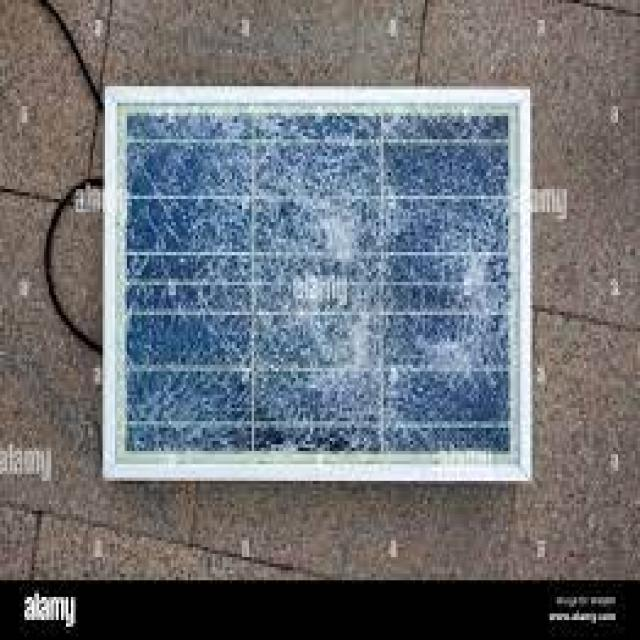faulty: (110, 93, 520, 460)
